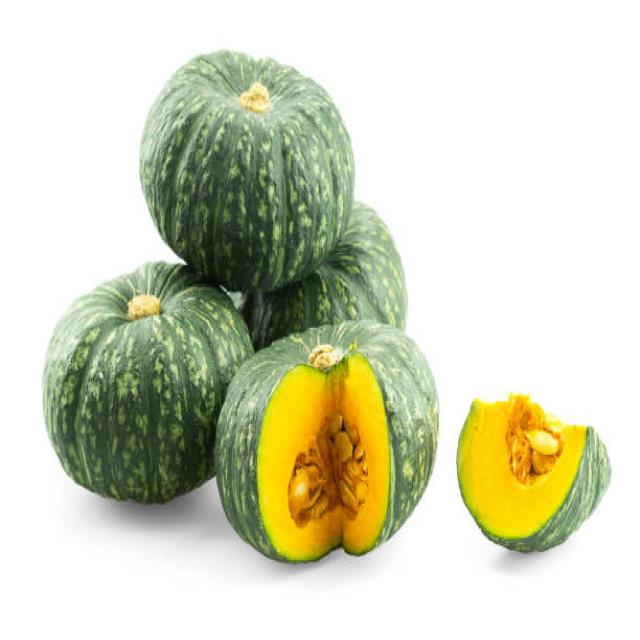Pumpkin: (224, 330, 440, 558), (138, 47, 356, 260), (40, 266, 217, 510), (455, 391, 613, 555)
